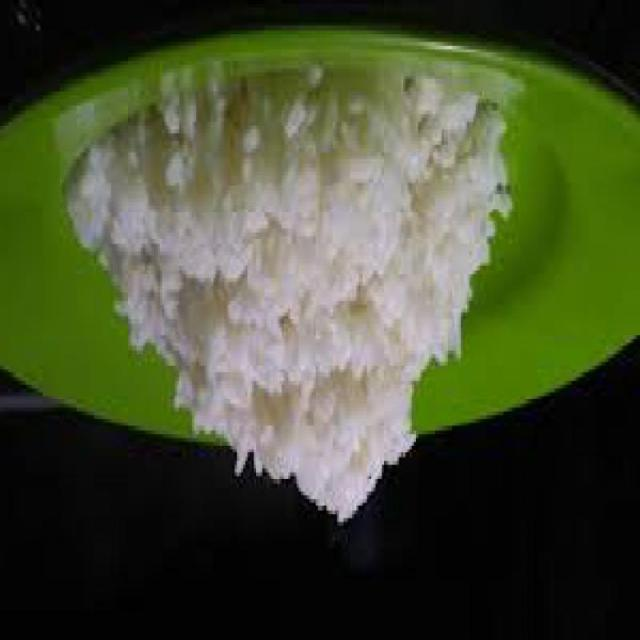nasi_putih: (65, 71, 512, 524)
